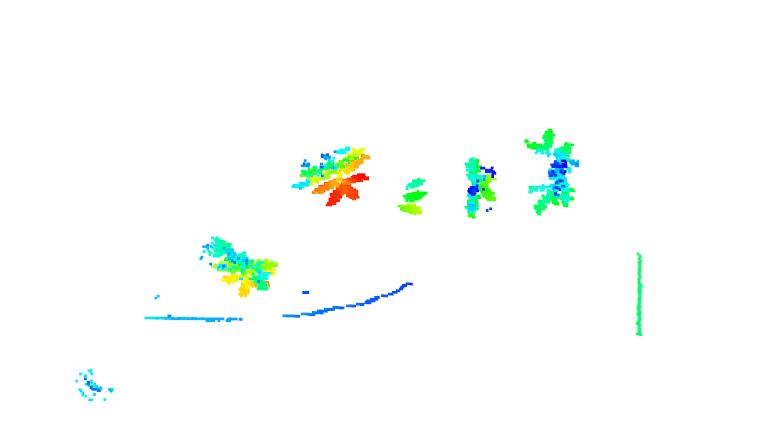chickpea: (290, 142, 377, 209), (523, 127, 580, 215), (199, 237, 277, 297), (462, 157, 505, 221), (397, 178, 430, 217)
